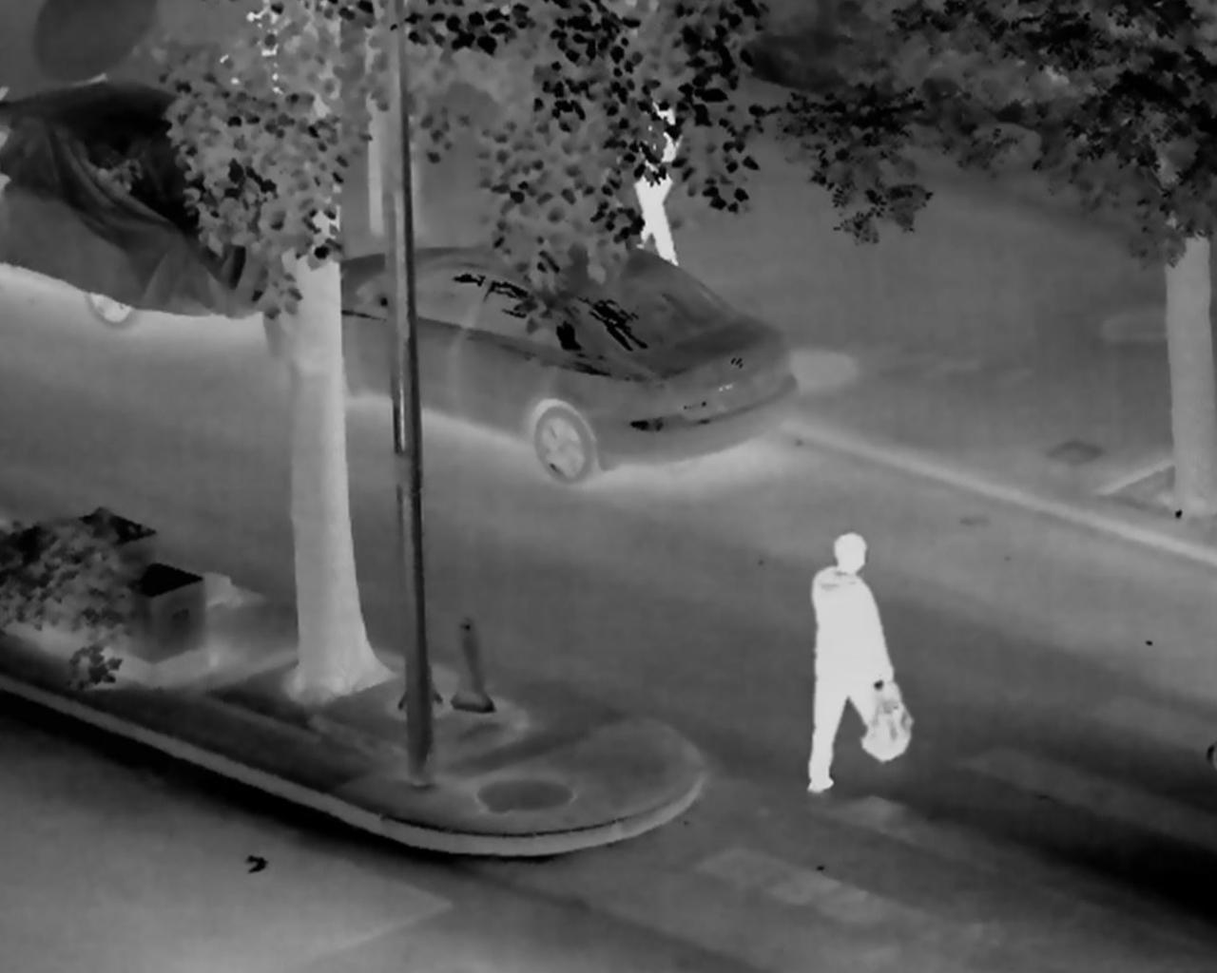person: (804, 531, 912, 796), (608, 59, 688, 277)
